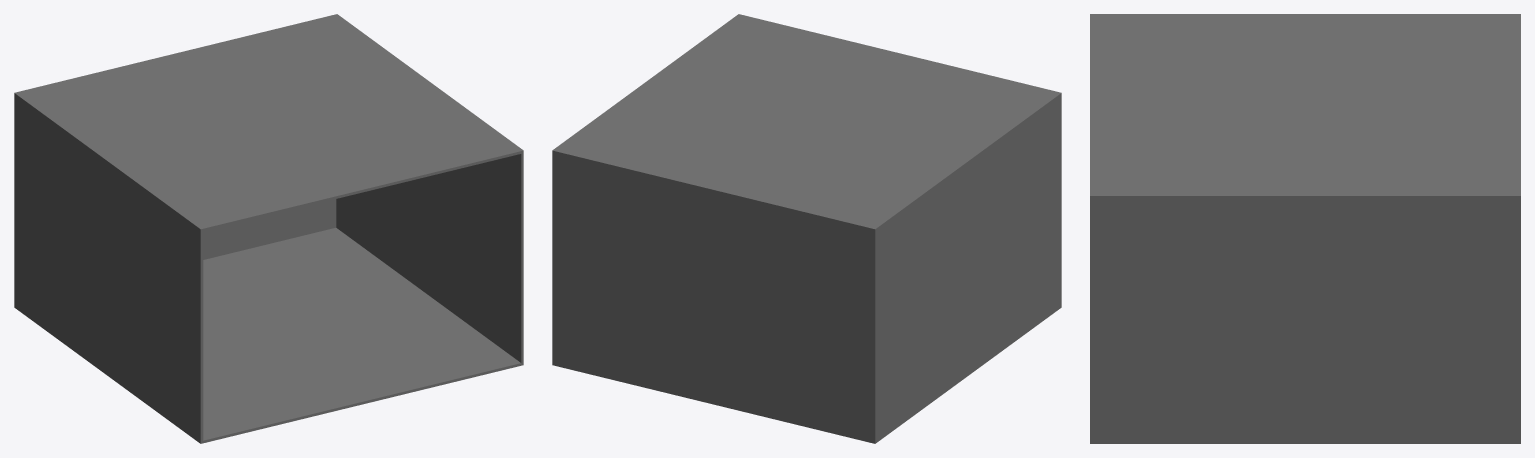
File: store.obj
3 views of the same model, side by side, from view 1: azimuth 30°, elevation 25°; view 2: azimuth 150°, elevation 25°; view 3: azimuth 270°, elevation 25° (orthographic). The views are drawn at different scales.
Bounding box in the file's own units: 12.6 × 8 × 12.6.
1 material, 1 textured.
